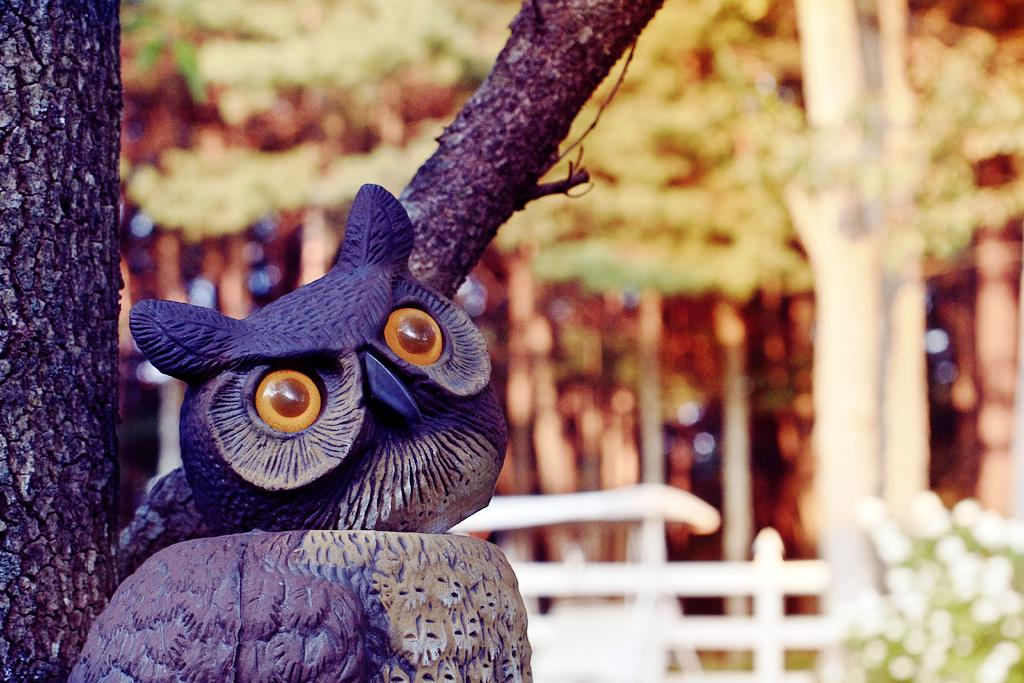Owl: (113, 180, 521, 554)
